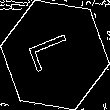L_E: (27, 32, 83, 78)
